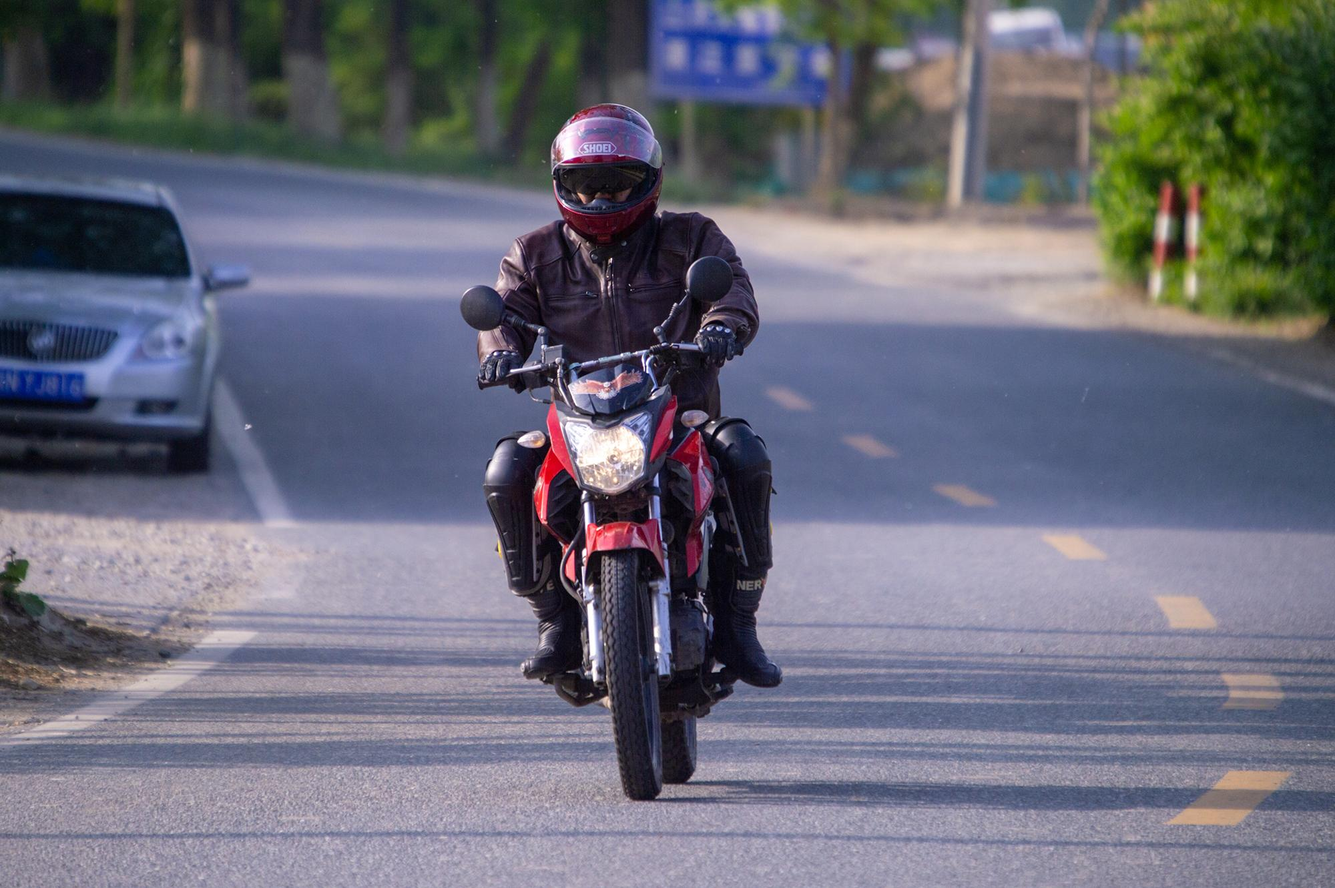helmet: (549, 102, 664, 248)
